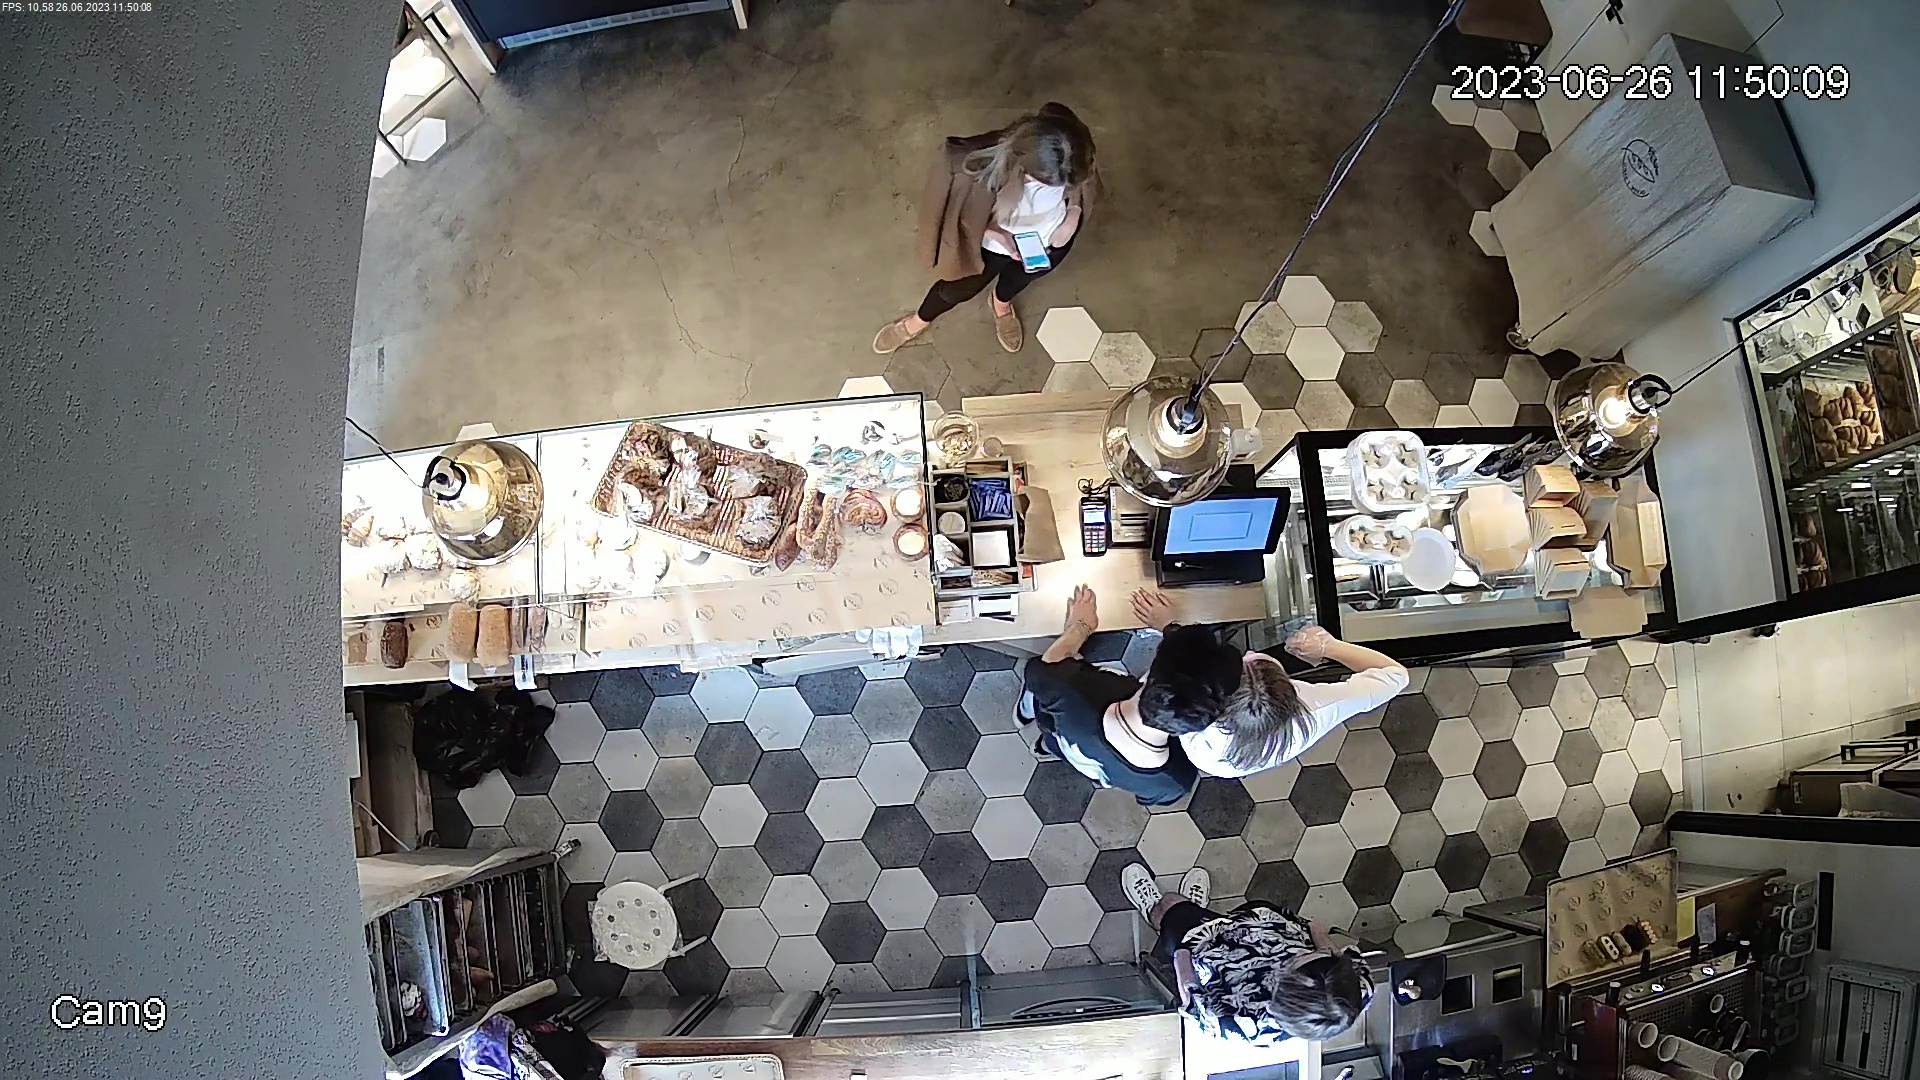pack: (1004, 484, 1065, 563)
person: (864, 88, 1099, 375)
